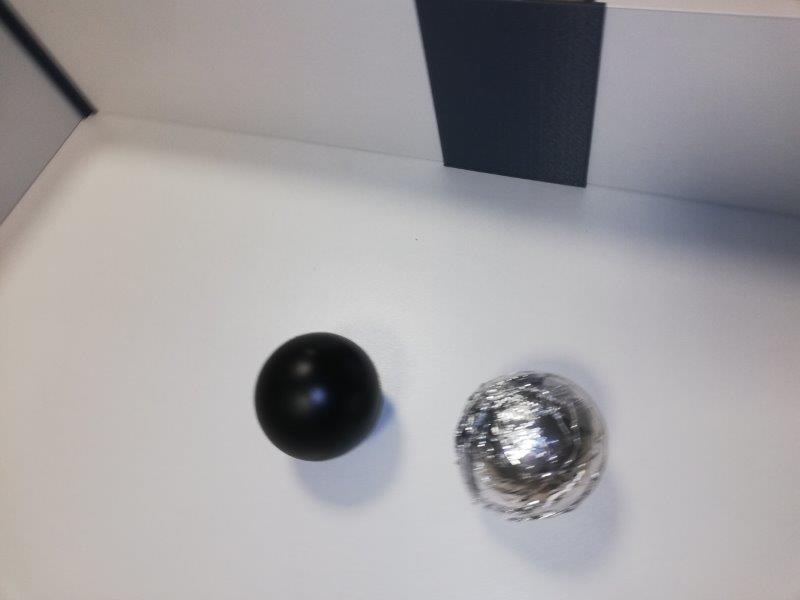bianca: (456, 368, 609, 520)
nera: (257, 332, 382, 462)
